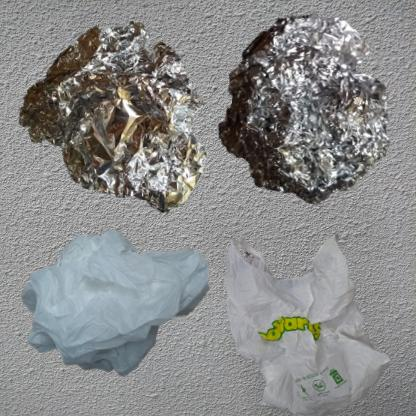aluminio: (10, 10, 223, 219), (213, 10, 392, 209)
bolsa: (10, 213, 236, 401), (213, 213, 407, 416)
